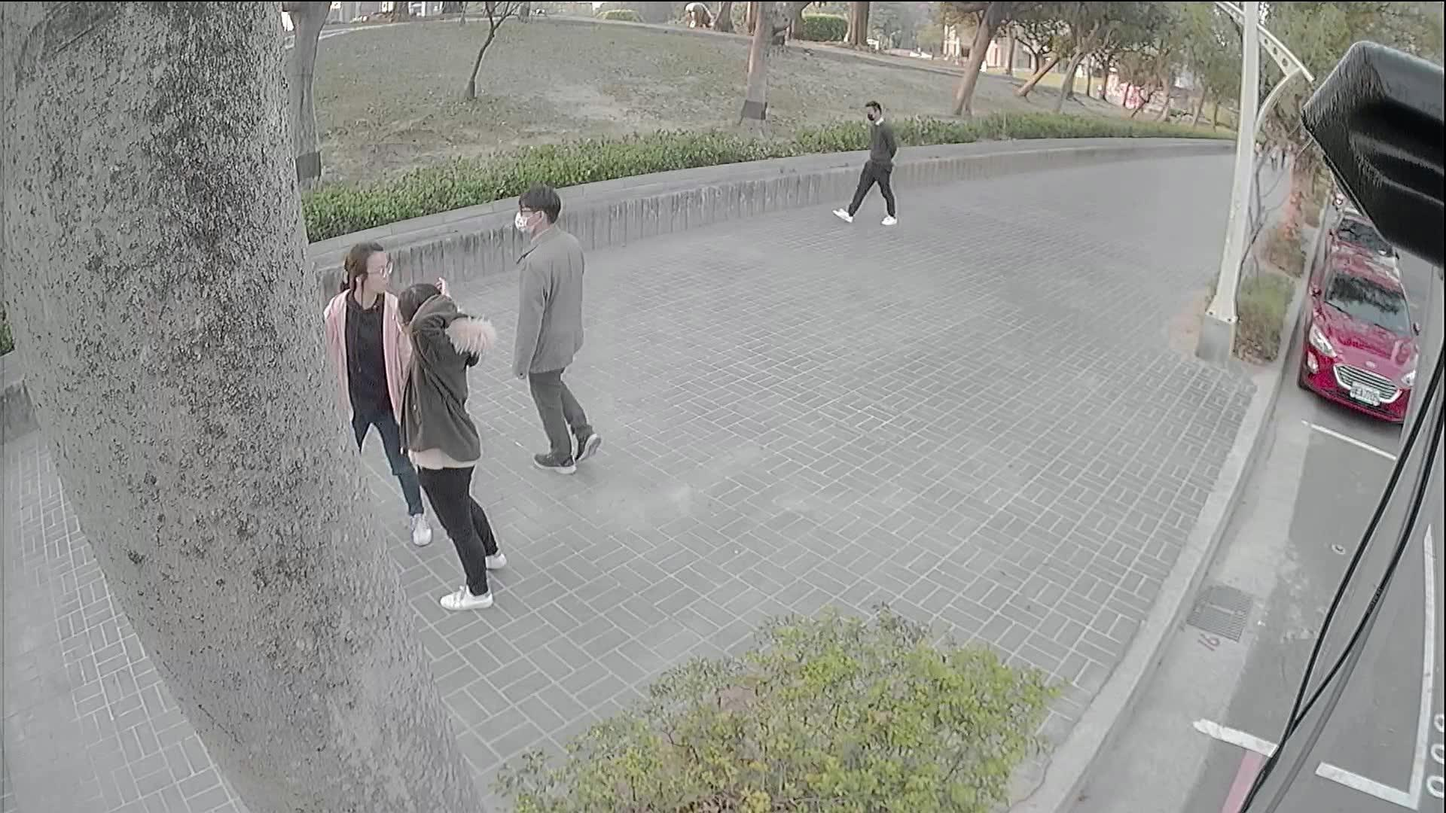person: (398, 280, 509, 606), (321, 240, 414, 547), (511, 187, 599, 471), (831, 97, 897, 224)
